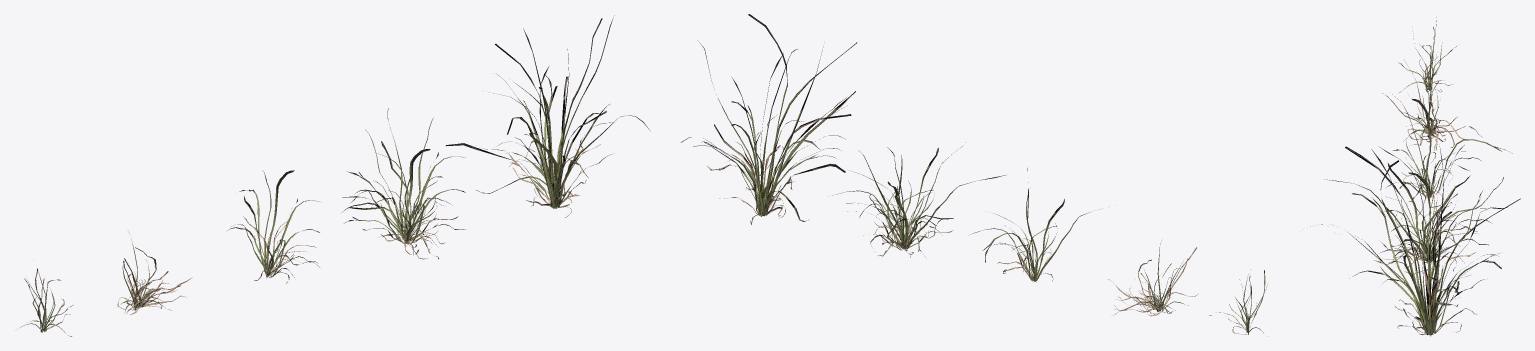
Rendered from grass_medium_02.glb.
The picture shows the model from 3 angles, left to right: view 1: azimuth 30°, elevation 25°; view 2: azimuth 150°, elevation 25°; view 3: azimuth 270°, elevation 25°; orthographic projection. The views are drawn at different scales.
Parts seen in each view (by area): view 1: grass_medium_02_e, grass_medium_02_d, grass_medium_02_c, grass_medium_02_b, grass_medium_02_a; view 2: grass_medium_02_e, grass_medium_02_d, grass_medium_02_c, grass_medium_02_b, grass_medium_02_a; view 3: grass_medium_02_e, grass_medium_02_d, grass_medium_02_c, grass_medium_02_b, grass_medium_02_a.
Boxes of the visible parts, x1,y1,x2,y2 form: grass_medium_02_e: (446, 15, 649, 217); grass_medium_02_d: (342, 108, 465, 259); grass_medium_02_c: (227, 170, 319, 283); grass_medium_02_b: (117, 239, 192, 314); grass_medium_02_a: (20, 268, 72, 336); grass_medium_02_e: (681, 14, 857, 224); grass_medium_02_d: (832, 146, 1005, 257); grass_medium_02_c: (971, 168, 1090, 281); grass_medium_02_b: (1108, 243, 1197, 316); grass_medium_02_a: (1209, 270, 1266, 334); grass_medium_02_e: (1310, 146, 1520, 336); grass_medium_02_d: (1324, 145, 1507, 274); grass_medium_02_c: (1386, 94, 1512, 215); grass_medium_02_b: (1382, 60, 1482, 150); grass_medium_02_a: (1398, 17, 1456, 92).
Size of the model in its own units: 1.31 by 0.4053 by 0.4326.
Materials: 1 (1 with a texture image).
